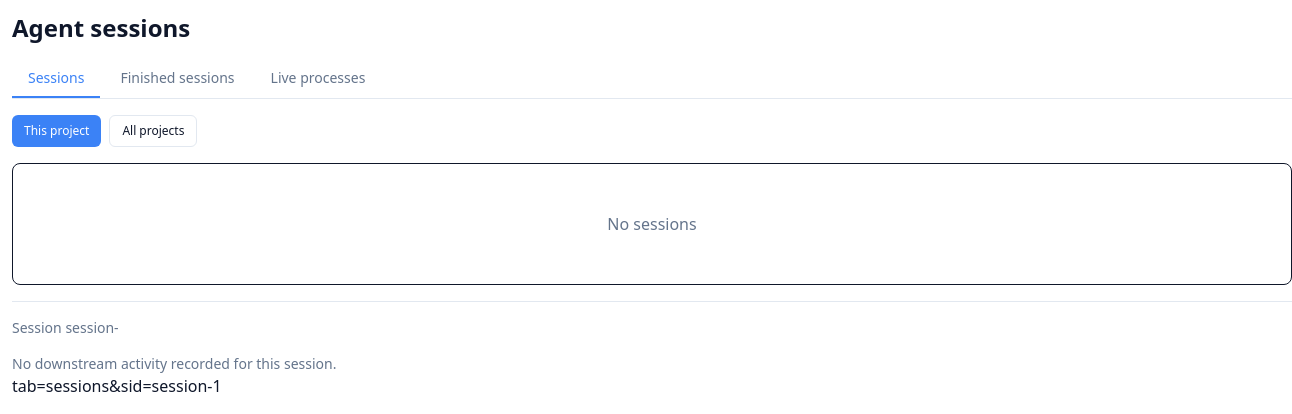
Test: LogsPage (tab shell) › preserves ?sid= while switching between Sessions views but clears it when leaving Sessions
The width and height of the screenshot is (1292, 414).
Expected: the text with test id "search-params" shows "sid=session-1", [12,375,222,397]
Click the button "Finished sessions".
click(177, 79)  # box [104,60,250,98]
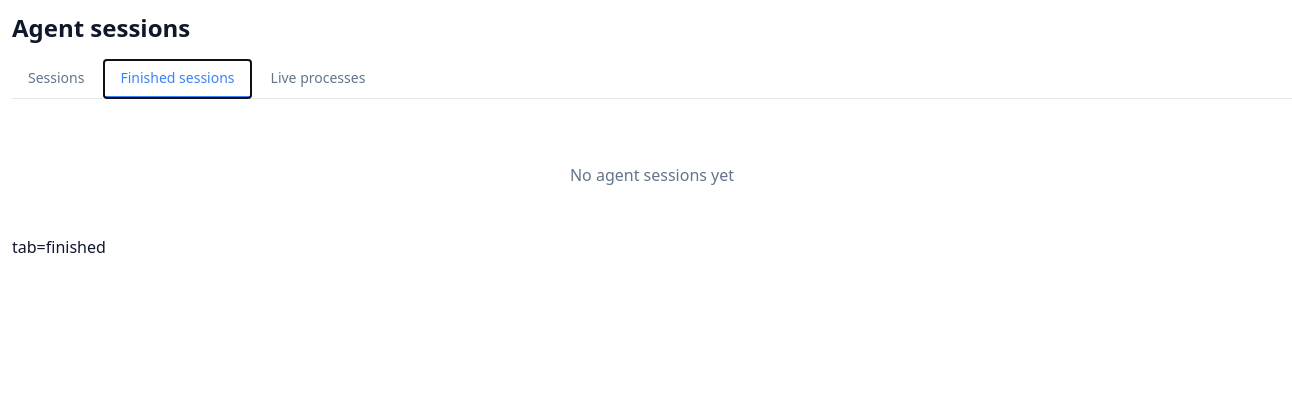
Result: the text with test id "search-params" no longer shows "sid=session-1" at [12,236,106,258]
